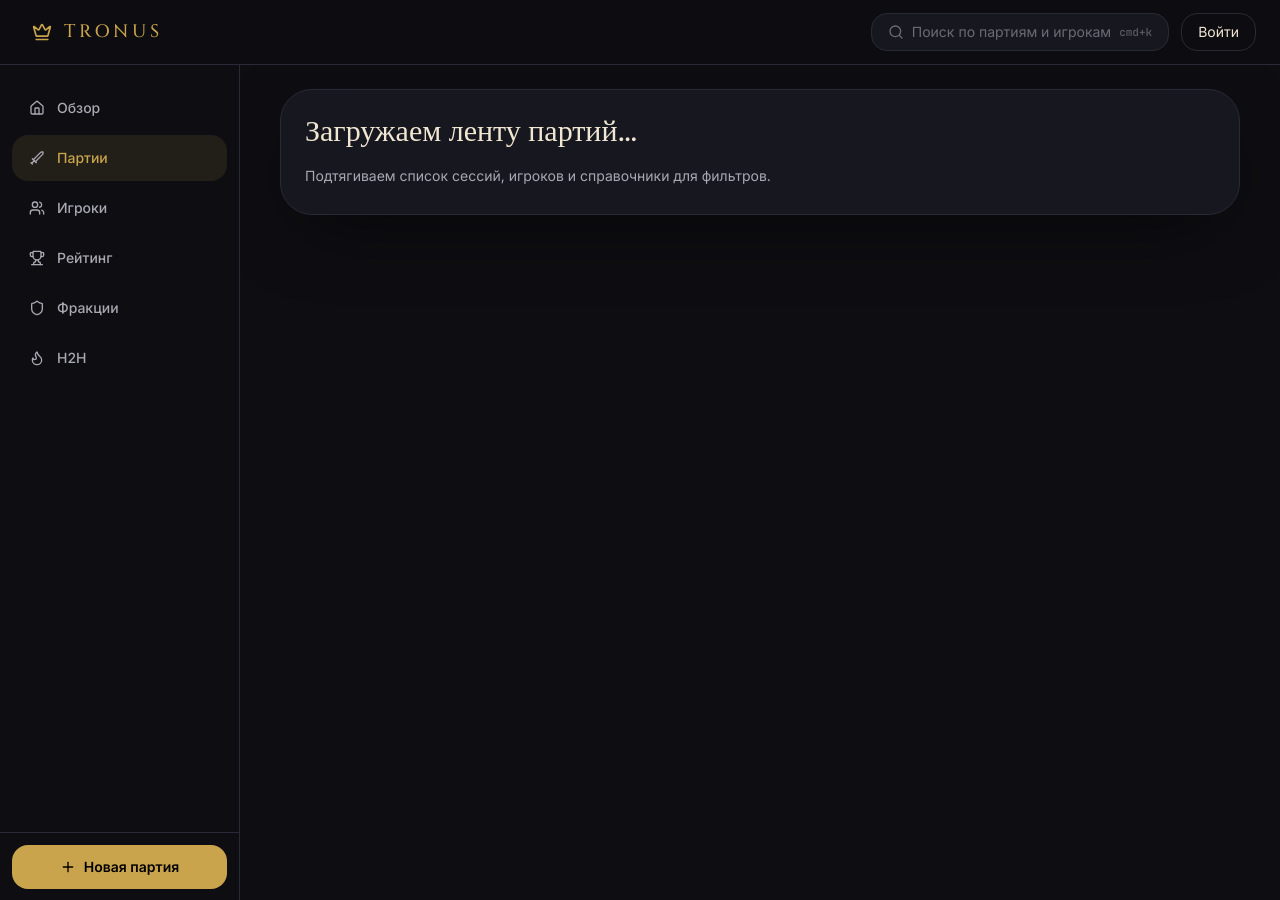
it: app shell › opens the search palette and hides notifications for guests
Click the button: (1020, 32) [871,13,1169,51]
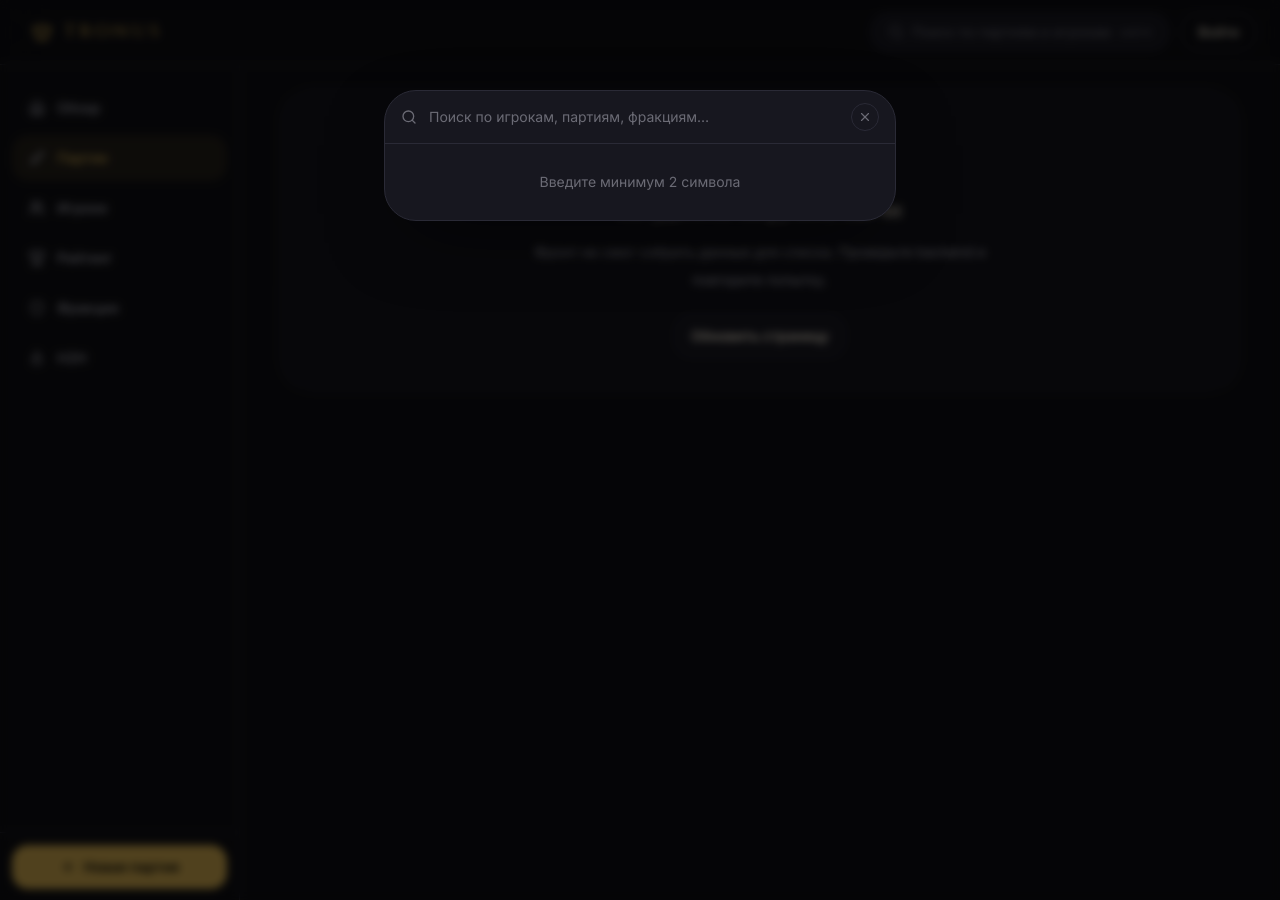
Now the field is shown, box [429,107,839,127]
